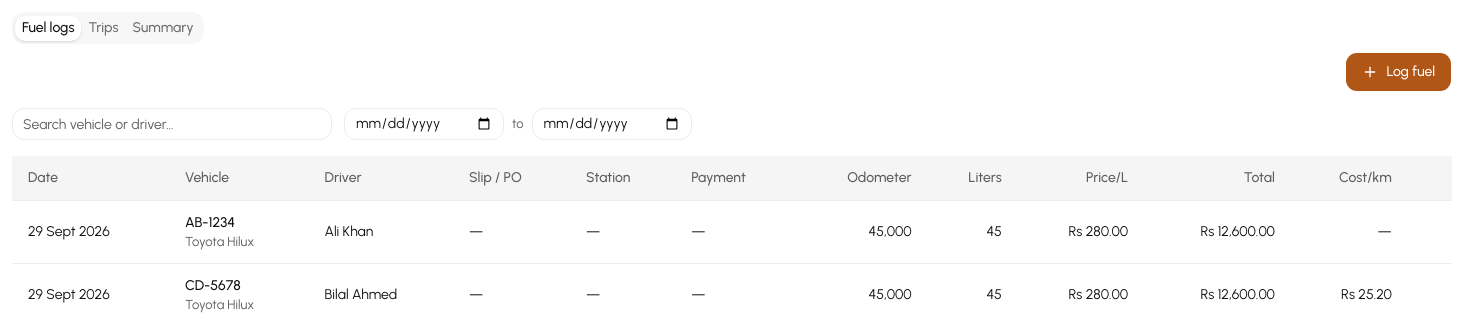
Test: Fuel & Trips filters › filters trips by search and by date range
The width and height of the screenshot is (1464, 330).
Click the tab "Trips" at x=103, y=28, box left=82, top=16, right=125, bottom=40
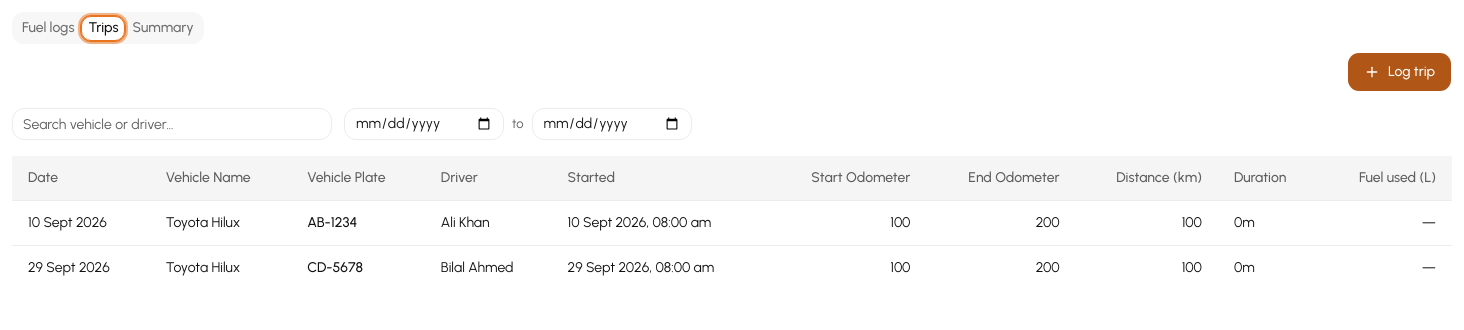
Type "2026-09-20" into the date field named "From date" at x=424, y=124, box left=344, top=108, right=504, bottom=140
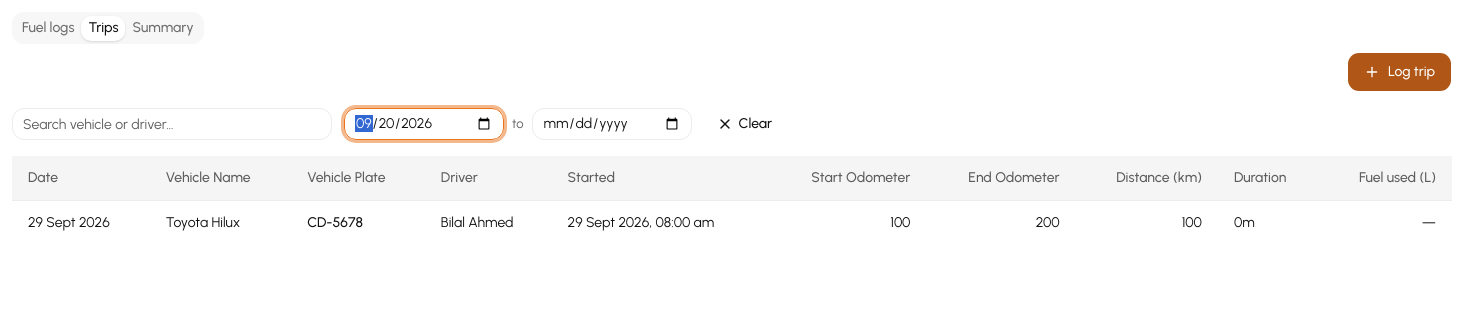
Check: the link "CD-5678" is shown, box left=307, top=214, right=363, bottom=230
Check: the link "AB-1234" is gone
Click the button "Clear" at x=744, y=124, box left=704, top=108, right=785, bottom=140
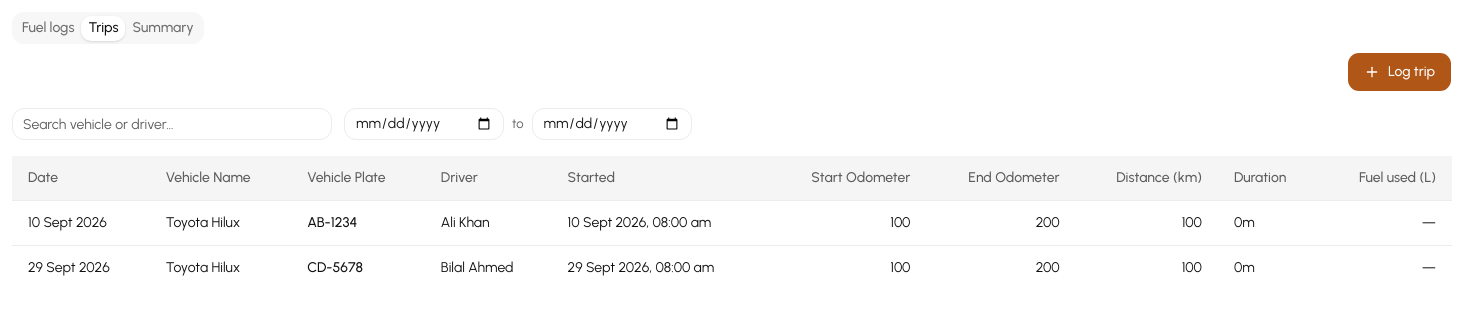
Type "ali" into the field named "Search fuel and trips" at x=172, y=124, box left=12, top=108, right=332, bottom=140
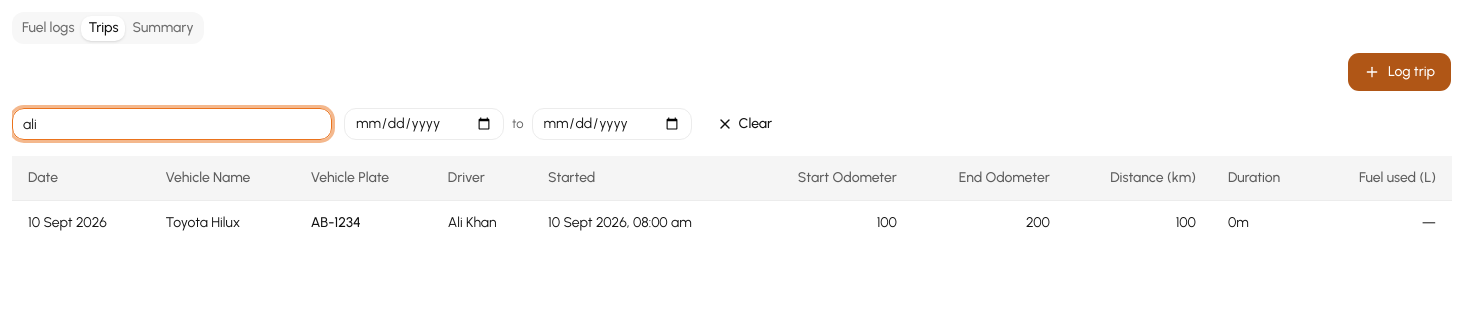
Check: the link "AB-1234" is shown, box left=311, top=214, right=361, bottom=230
Check: the link "CD-5678" is gone
